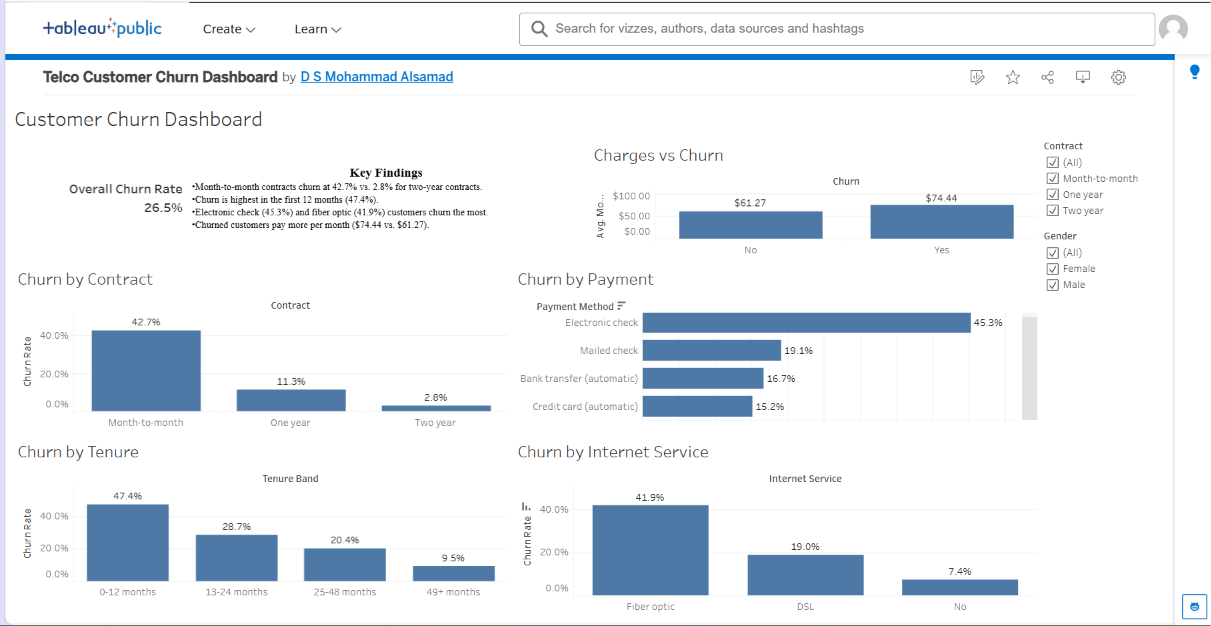

What the dashboard file says about the page in this screenshot:
{"tool":"tableau","page":{"name":"Customer Churn Dashboard","canvas":[1000,1000],"units":"permille","ordinal":0},"visuals":[{"type":"title","box":[5,9.9,990,72]},{"type":"worksheet","title":"KPI - Churn Rate","mark":"Automatic","box":[5,81.9,153.3,234.5]},{"type":"text","box":[158.3,81.9,341.7,234.5]},{"type":"worksheet","title":" Charges vs Churn","mark":"Automatic","rows":["MonthlyCharges"],"cols":["Churn"],"box":[500,81.9,395.3,234.5]},{"type":"filter","title":"Churn by Contract","param":"[federated.1przk0w0k3sv8x1f18yki0jjc4i3].[none:Contract:nk]","box":[895.3,81.9,99.8,183.6]},{"type":"filter","title":"Churn by Tenure","param":"[federated.1przk0w0k3sv8x1f18yki0jjc4i3].[none:gender:nk]","box":[895.3,265.5,99.8,150.1]},{"type":"worksheet","title":"Churn by Contract","mark":"Automatic","rows":["Calculation_1002542381998081"],"cols":["Contract"],"box":[5,316.4,432.2,326.5]},{"type":"worksheet","title":"Churn by Payment","mark":"Automatic","rows":["PaymentMethod"],"cols":["Calculation_1002542381998081"],"box":[437.2,316.4,458.1,326.5]},{"type":"worksheet","title":"Churn by Tenure","mark":"Automatic","rows":["Calculation_1002542381998081"],"cols":["Calculation_1002542382219266"],"box":[5,642.9,432.2,347.2]},{"type":"worksheet","title":"Churn by Internet Service","mark":"Automatic","rows":["Calculation_1002542381998081"],"cols":["InternetService"],"box":[437.2,642.9,458.1,347.2]}]}

Visuals, with their boxes on the dashboard's canvas, which has no fixed pixel size, in thousandths of its width and height (x1, y1, x2, y2). These are canvas units, not pixel positions in the 1211x626 screenshot, which may show the page scaled, cropped or inside an application window:
title: [5,10,995,82]
"KPI - Churn Rate" worksheet: [5,82,158,316]
text: [158,82,500,316]
" Charges vs Churn" worksheet: [500,82,895,316]
"Churn by Contract" filter: [895,82,995,266]
"Churn by Tenure" filter: [895,266,995,416]
"Churn by Contract" worksheet: [5,316,437,643]
"Churn by Payment" worksheet: [437,316,895,643]
"Churn by Tenure" worksheet: [5,643,437,990]
"Churn by Internet Service" worksheet: [437,643,895,990]
